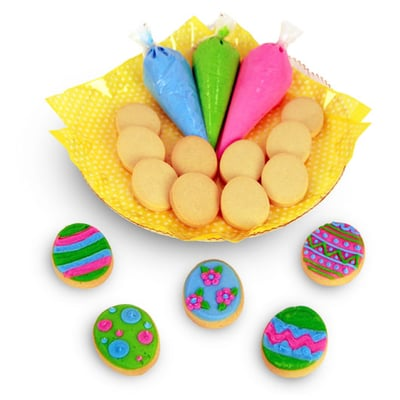sushi: (44, 38, 389, 243)
